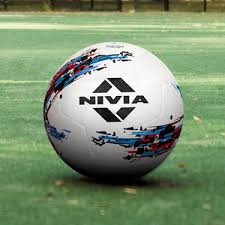football ball: (41, 40, 185, 181)
